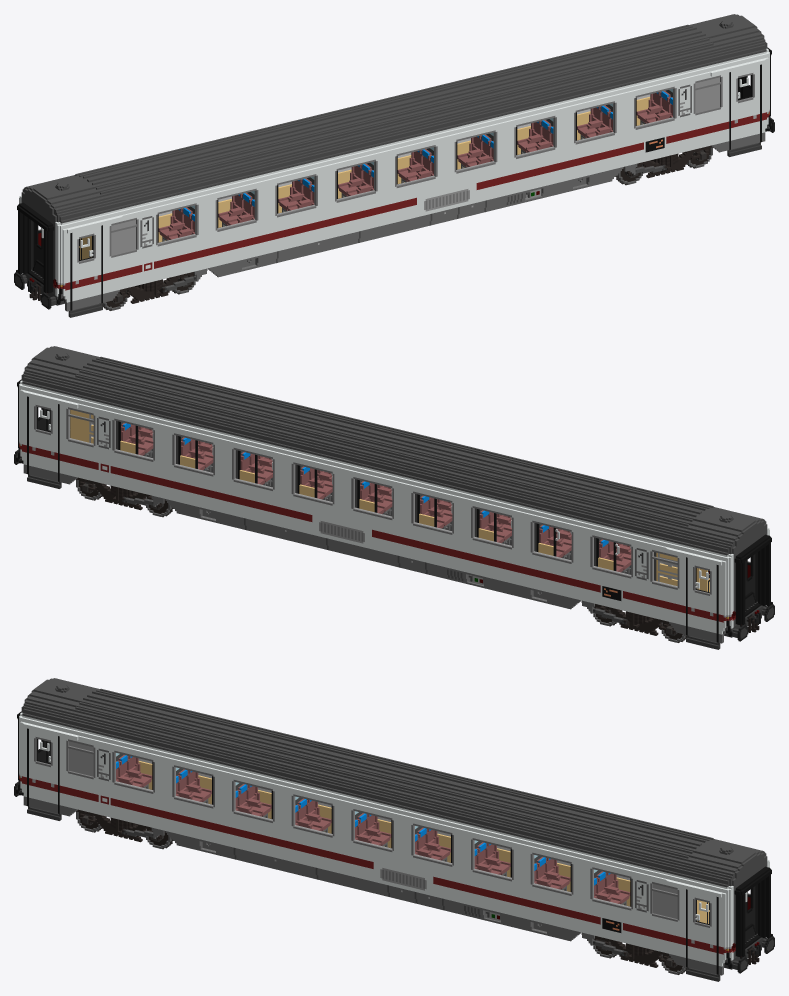
The picture shows the model from 3 angles, top to bottom: view 1: azimuth 30°, elevation 25°; view 2: azimuth 150°, elevation 25°; view 3: azimuth 330°, elevation 25°; orthographic projection.
Visible parts, largest first — view 1: FRAME, BOGEY_FRONT, BOGEY_REAR; view 2: FRAME, BOGEY_FRONT, BOGEY_REAR; view 3: FRAME, BOGEY_REAR, BOGEY_FRONT.
Part boxes in pixels (x1,y1,x2,y2): FRAME: (14, 14, 774, 317); BOGEY_FRONT: (113, 269, 207, 303); BOGEY_REAR: (622, 145, 712, 178); FRAME: (14, 346, 774, 649); BOGEY_FRONT: (581, 601, 675, 635); BOGEY_REAR: (76, 477, 166, 510); FRAME: (14, 678, 774, 981); BOGEY_REAR: (581, 933, 675, 967); BOGEY_FRONT: (76, 809, 166, 842).
Size of the model in its own units: 26.56 by 4.44 by 2.88.
Materials: 1 (1 with a texture image).
